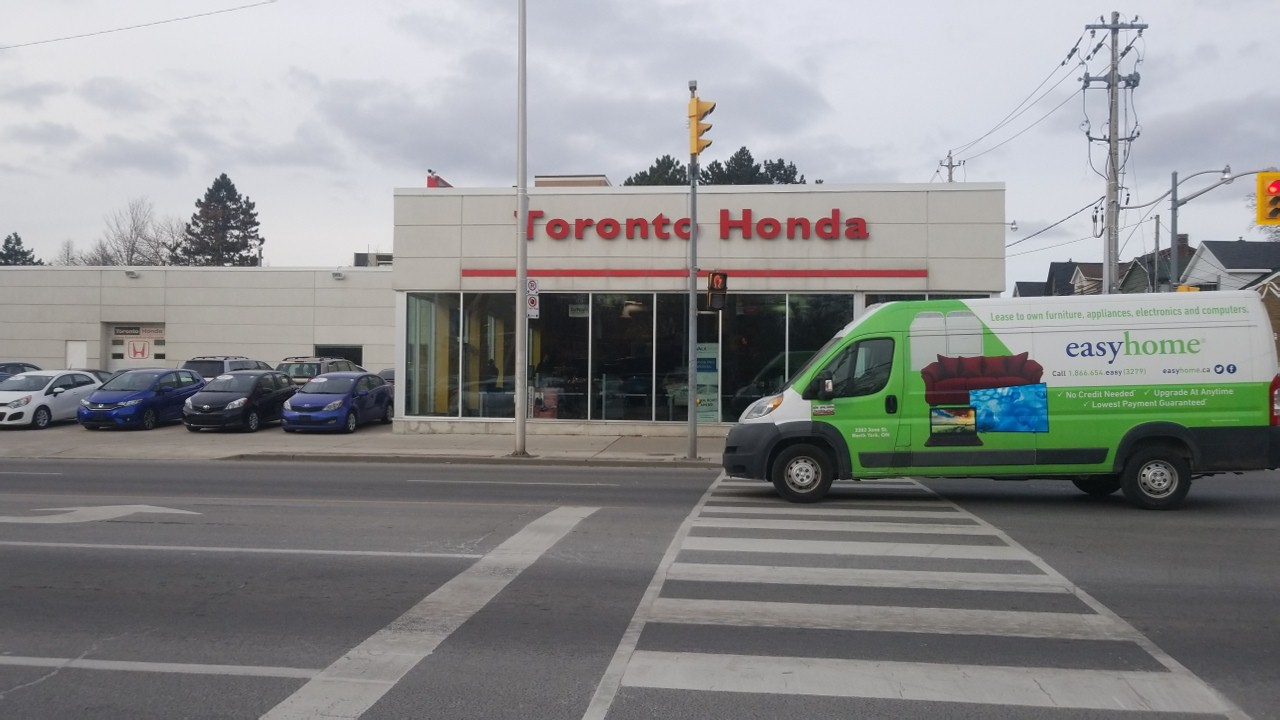light: (705, 269, 728, 311)
